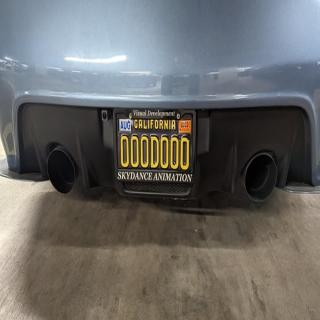license: (114, 110, 197, 184)
